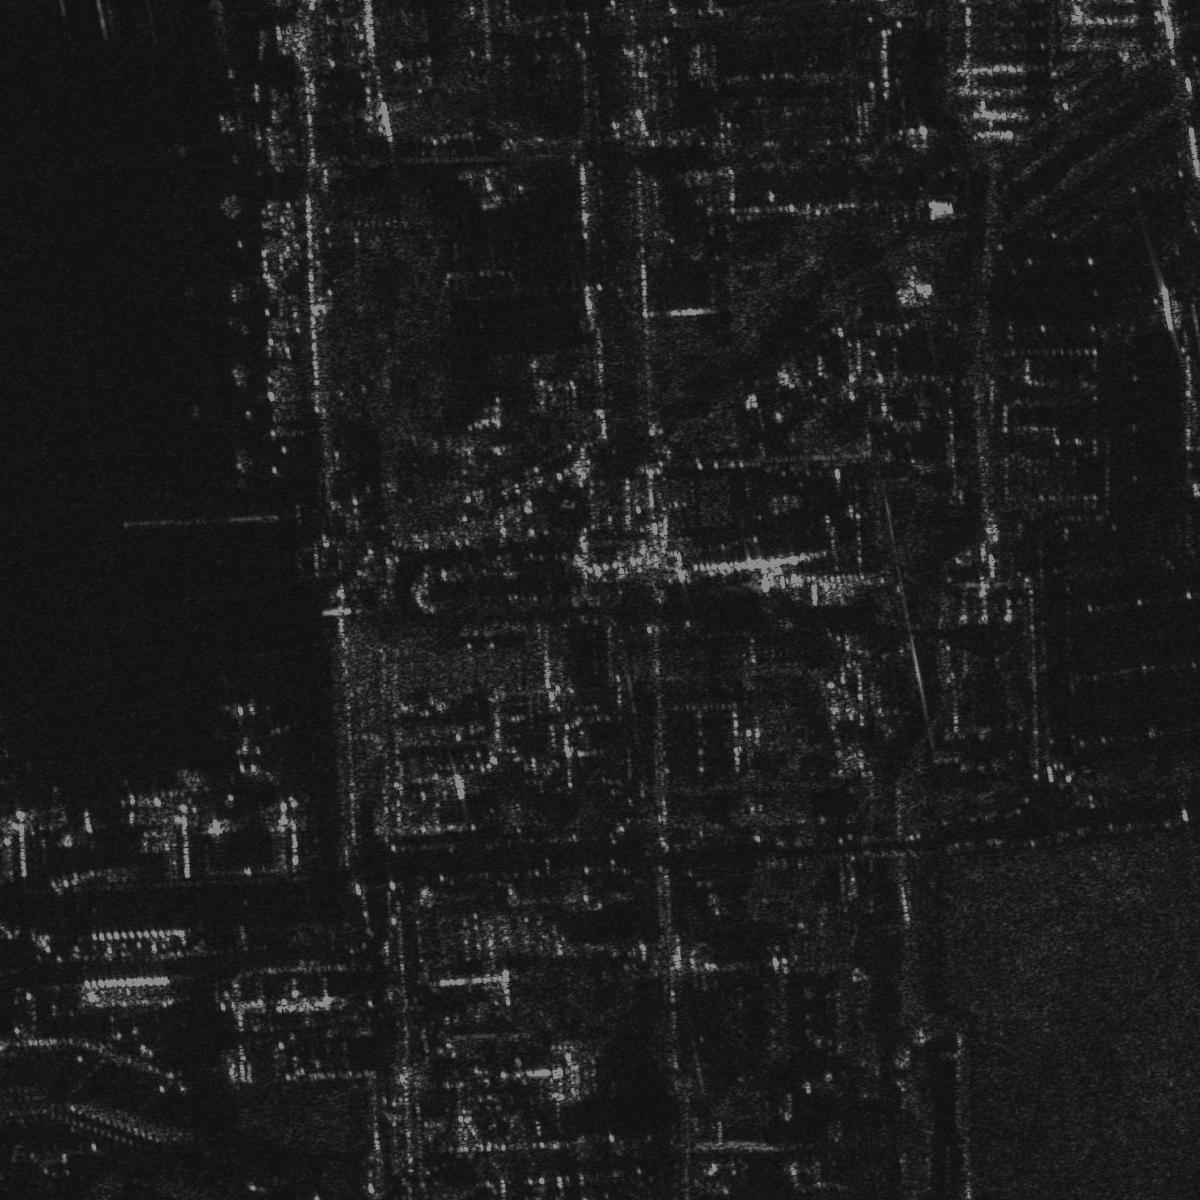A220: (216, 695, 288, 782)
